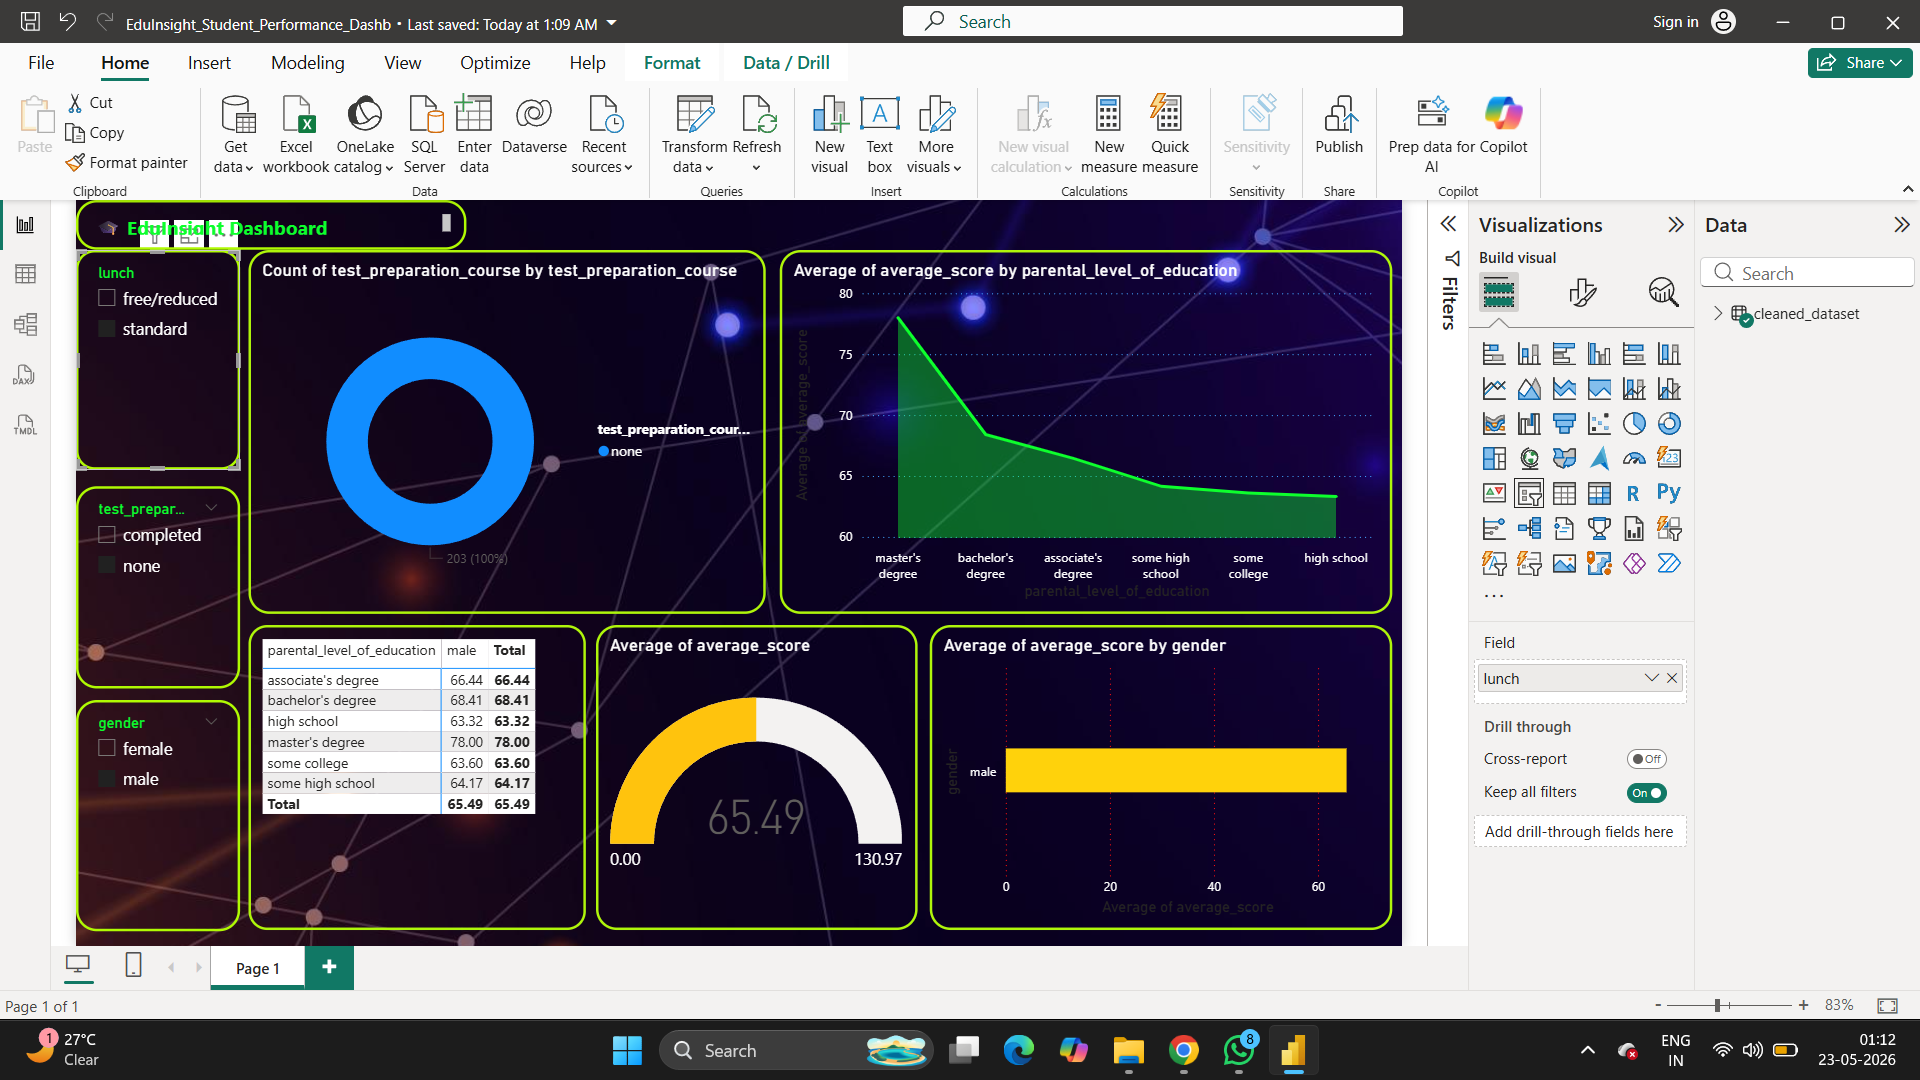

This screenshot's page, from the dashboard's own definition file:
{"tool":"powerbi","page":{"name":"Page 1","canvas":[1280,720],"ordinal":0},"visuals":[{"type":"gauge","fields":{"Y":["Avg(cleaned_dataset.average_score)"]},"box":[501.9,410.2,310.1,294.4],"z":0},{"type":"barChart","fields":{"Category":["cleaned_dataset.gender"],"Y":["Avg(cleaned_dataset.average_score)"]},"box":[824,410.2,446.4,294.4],"z":1000},{"type":"donutChart","fields":{"Category":["cleaned_dataset.test_preparation_course"],"Y":["CountNonNull(cleaned_dataset.test_preparation_course)"]},"box":[166.5,48.3,499.5,351.1],"z":2000},{"type":"areaChart","fields":{"Category":["cleaned_dataset.parental_level_of_education"],"Y":["Avg(cleaned_dataset.average_score)"]},"box":[679.2,48.3,591.2,351.1],"z":3000},{"type":"pivotTable","fields":{"Rows":["cleaned_dataset.parental_level_of_education"],"Columns":["cleaned_dataset.gender"],"Values":["Avg(cleaned_dataset.average_score)"]},"box":[166.5,410.2,325.7,294.4],"z":4000},{"type":"slicer","fields":{"Values":["cleaned_dataset.gender"]},"box":[0,482.6,158,223.2],"z":5000},{"type":"slicer","fields":{"Values":["cleaned_dataset.lunch"]},"box":[0,48.3,158,212.3],"z":6000},{"type":"slicer","fields":{"Values":["cleaned_dataset.test_preparation_course"]},"box":[0,276.3,158,195.4],"z":7000},{"type":"textbox","box":[0,0,376.4,48.3],"z":8000}]}

Visuals, with their boxes on the page's 1280x720 design canvas (x1, y1, x2, y2). These are canvas units, not pixel positions in the 1920x1080 screenshot, which may show the page scaled, cropped or inside an application window:
gauge - Avg(cleaned_dataset.average_score): [x1=502, y1=410, x2=812, y2=705]
barChart - cleaned_dataset.gender x Avg(cleaned_dataset.average_score): [x1=824, y1=410, x2=1270, y2=705]
donutChart - cleaned_dataset.test_preparation_course x CountNonNull(cleaned_dataset.test_preparation_course): [x1=166, y1=48, x2=666, y2=399]
areaChart - cleaned_dataset.parental_level_of_education x Avg(cleaned_dataset.average_score): [x1=679, y1=48, x2=1270, y2=399]
pivotTable - cleaned_dataset.parental_level_of_education x cleaned_dataset.gender: [x1=166, y1=410, x2=492, y2=705]
slicer - cleaned_dataset.gender: [x1=0, y1=483, x2=158, y2=706]
slicer - cleaned_dataset.lunch: [x1=0, y1=48, x2=158, y2=261]
slicer - cleaned_dataset.test_preparation_course: [x1=0, y1=276, x2=158, y2=472]
textbox: [x1=0, y1=0, x2=376, y2=48]
